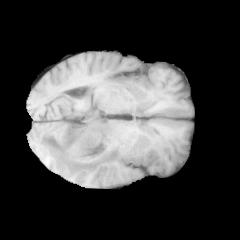glioma: (39, 103, 122, 175)
